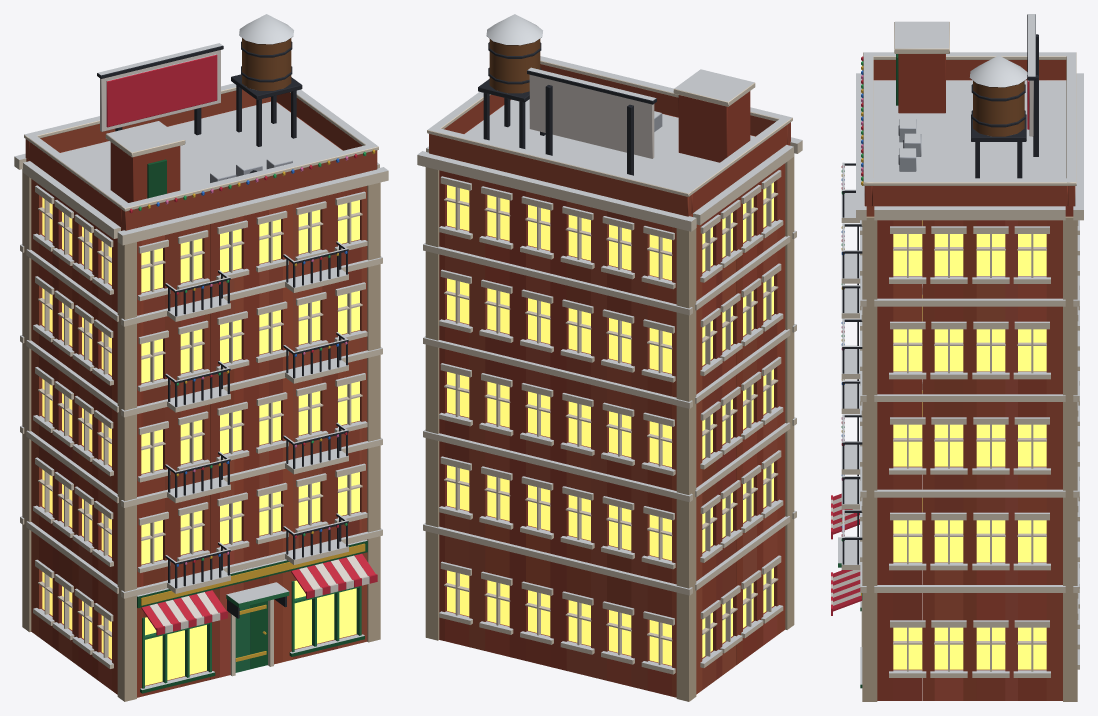
The model's file is Apartment.glb.
3 views of the same model, side by side, from view 1: azimuth 30°, elevation 25°; view 2: azimuth 150°, elevation 25°; view 3: azimuth 270°, elevation 25° (orthographic). The views are drawn at different scales.
Parts seen in each view (by area): view 1: Apartment_Walls, Apartment_Trim, Apartment_Roof, Apartment_Glow, Apartment_Balconies, Apartment_Shopfront, Apartment_Lights; view 2: Apartment_Walls, Apartment_Trim, Apartment_Roof, Apartment_Glow; view 3: Apartment_Walls, Apartment_Trim, Apartment_Roof, Apartment_Glow, Apartment_Balconies, Apartment_Shopfront, Apartment_Lights.
Part boxes in pixels (left/top/right/bottom): Apartment_Walls: left=26, top=101, right=367, bottom=697; Apartment_Trim: left=14, top=153, right=388, bottom=701; Apartment_Roof: left=24, top=14, right=378, bottom=230; Apartment_Glow: left=42, top=197, right=359, bottom=685; Apartment_Balconies: left=165, top=241, right=348, bottom=593; Apartment_Shopfront: left=137, top=539, right=377, bottom=676; Apartment_Lights: left=129, top=149, right=375, bottom=566; Apartment_Walls: left=439, top=100, right=790, bottom=697; Apartment_Trim: left=417, top=137, right=802, bottom=701; Apartment_Roof: left=427, top=14, right=792, bottom=216; Apartment_Glow: left=447, top=182, right=773, bottom=665; Apartment_Walls: left=866, top=80, right=1073, bottom=700; Apartment_Trim: left=856, top=73, right=1083, bottom=701; Apartment_Roof: left=863, top=14, right=1076, bottom=206; Apartment_Glow: left=893, top=220, right=1046, bottom=669; Apartment_Balconies: left=841, top=162, right=862, bottom=569; Apartment_Shopfront: left=831, top=493, right=862, bottom=646; Apartment_Lights: left=841, top=56, right=863, bottom=541.
Bounding box in the file's own units: 33.8 × 71.65 × 26.42.
